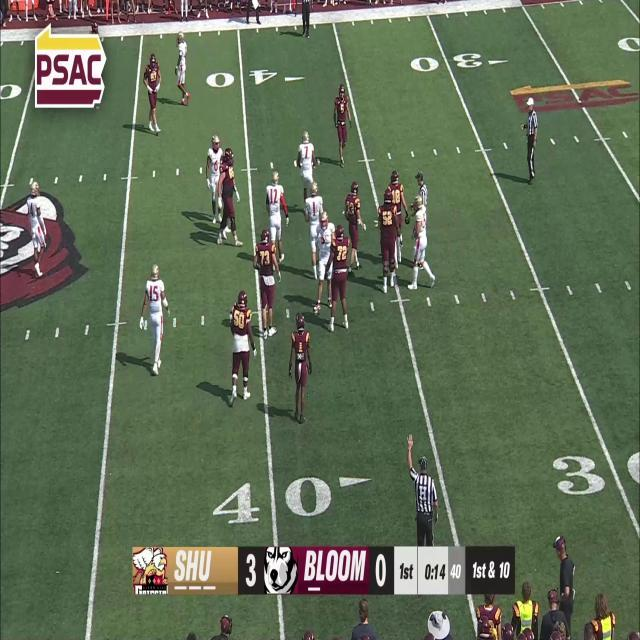football: (404, 215, 410, 225)
